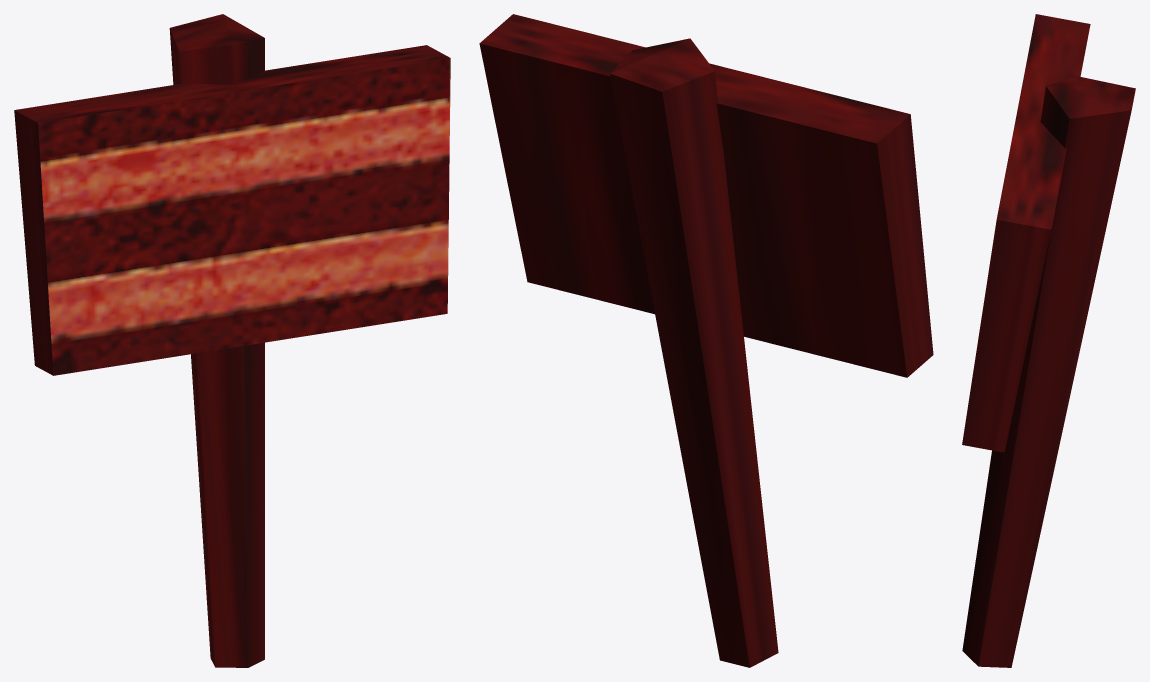
Rendered from SignRedStripe.gltf.
3 renders of one model, left to right at view 1: azimuth 30°, elevation 25°; view 2: azimuth 150°, elevation 25°; view 3: azimuth 270°, elevation 25°, orthographic. The views are drawn at different scales.
Parts seen in each view (by area): view 1: SignRedStripeMesh; view 2: SignRedStripeMesh; view 3: SignRedStripeMesh.
Part boxes in pixels (bbox=[...]): SignRedStripeMesh: bbox=[14, 14, 450, 667]; SignRedStripeMesh: bbox=[479, 14, 933, 667]; SignRedStripeMesh: bbox=[962, 14, 1135, 667].
Bounding box in the file's own units: 1.67 × 2.38 × 0.6383.
Materials: 1 (1 with a texture image).
